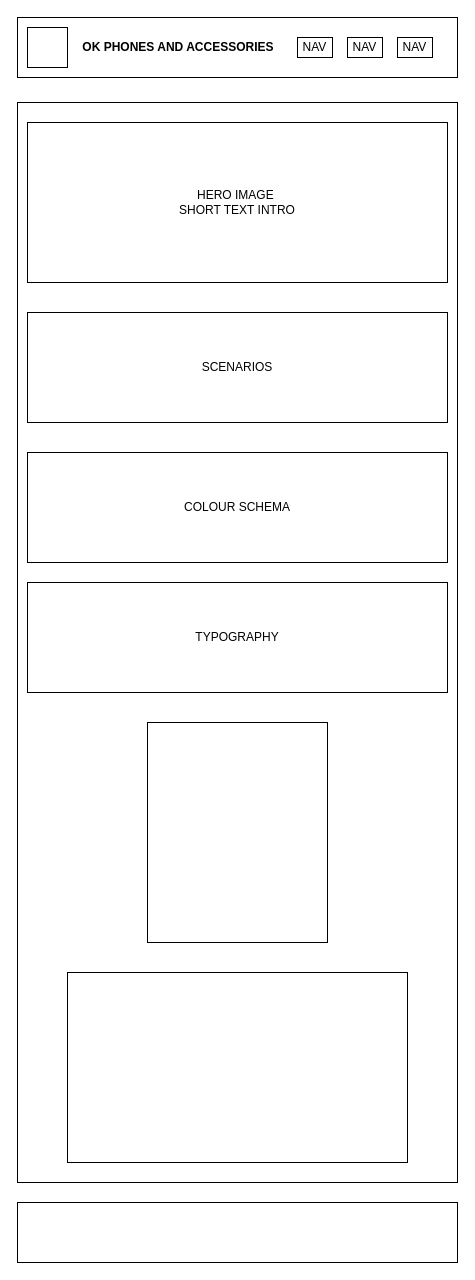
Image size: 475x1280. Some labels were removed from this diagram. The shapes that lost their labels are listed below. From the top down, each one's centre as x and y in pixels, then its label:
At (x=47, y=47): "LOGO".
At (x=237, y=832): "MOBILE VIEW WIREFREAME".
At (x=237, y=1067): "WIDER VIEW WIREFRAME".
At (x=237, y=1232): "STANDARD FOOTER CONTENT".
